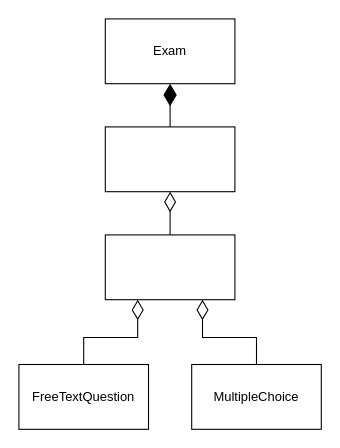
This 340x448 diagram has some shape labels left out. Each missing label, with the centre of its shape:
QuestionCollection: point (169, 159)
QuestionMeta: point (169, 267)
